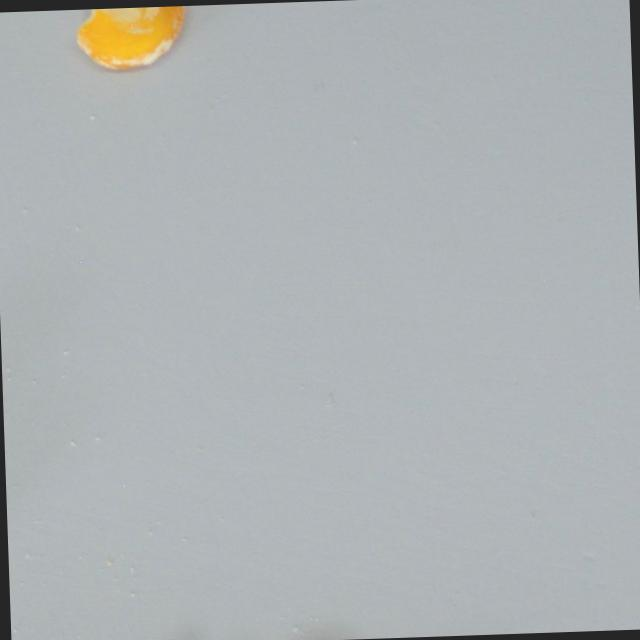pelicula: (73, 4, 190, 74)
